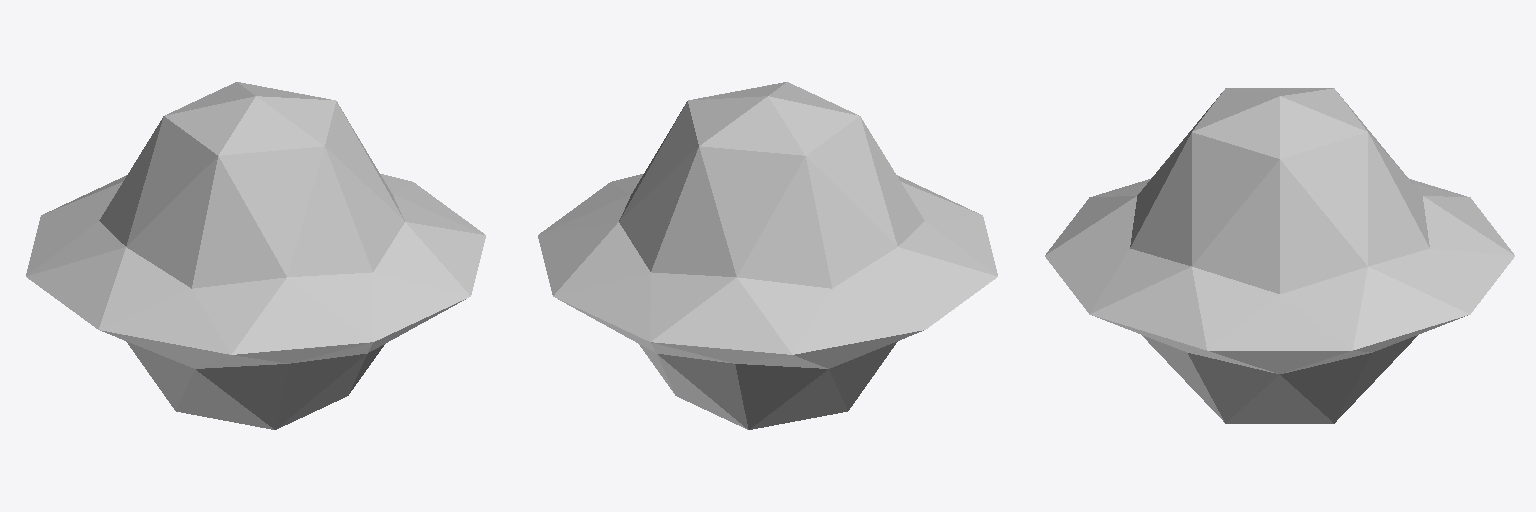
Rendered from spooper.obj.
The picture shows the model from 3 angles: view 1: azimuth 30°, elevation 25°; view 2: azimuth 150°, elevation 25°; view 3: azimuth 270°, elevation 25°; orthographic projection.
Parts seen in each view (by area): view 1: Icosphere; view 2: Icosphere; view 3: Icosphere.
Part boxes in pixels (x1,y1,x2,y2): Icosphere: (26, 82, 485, 429); Icosphere: (538, 82, 997, 429); Icosphere: (1045, 88, 1514, 423).
Bounding box in the file's own units: 3.81 × 3 × 4.01.